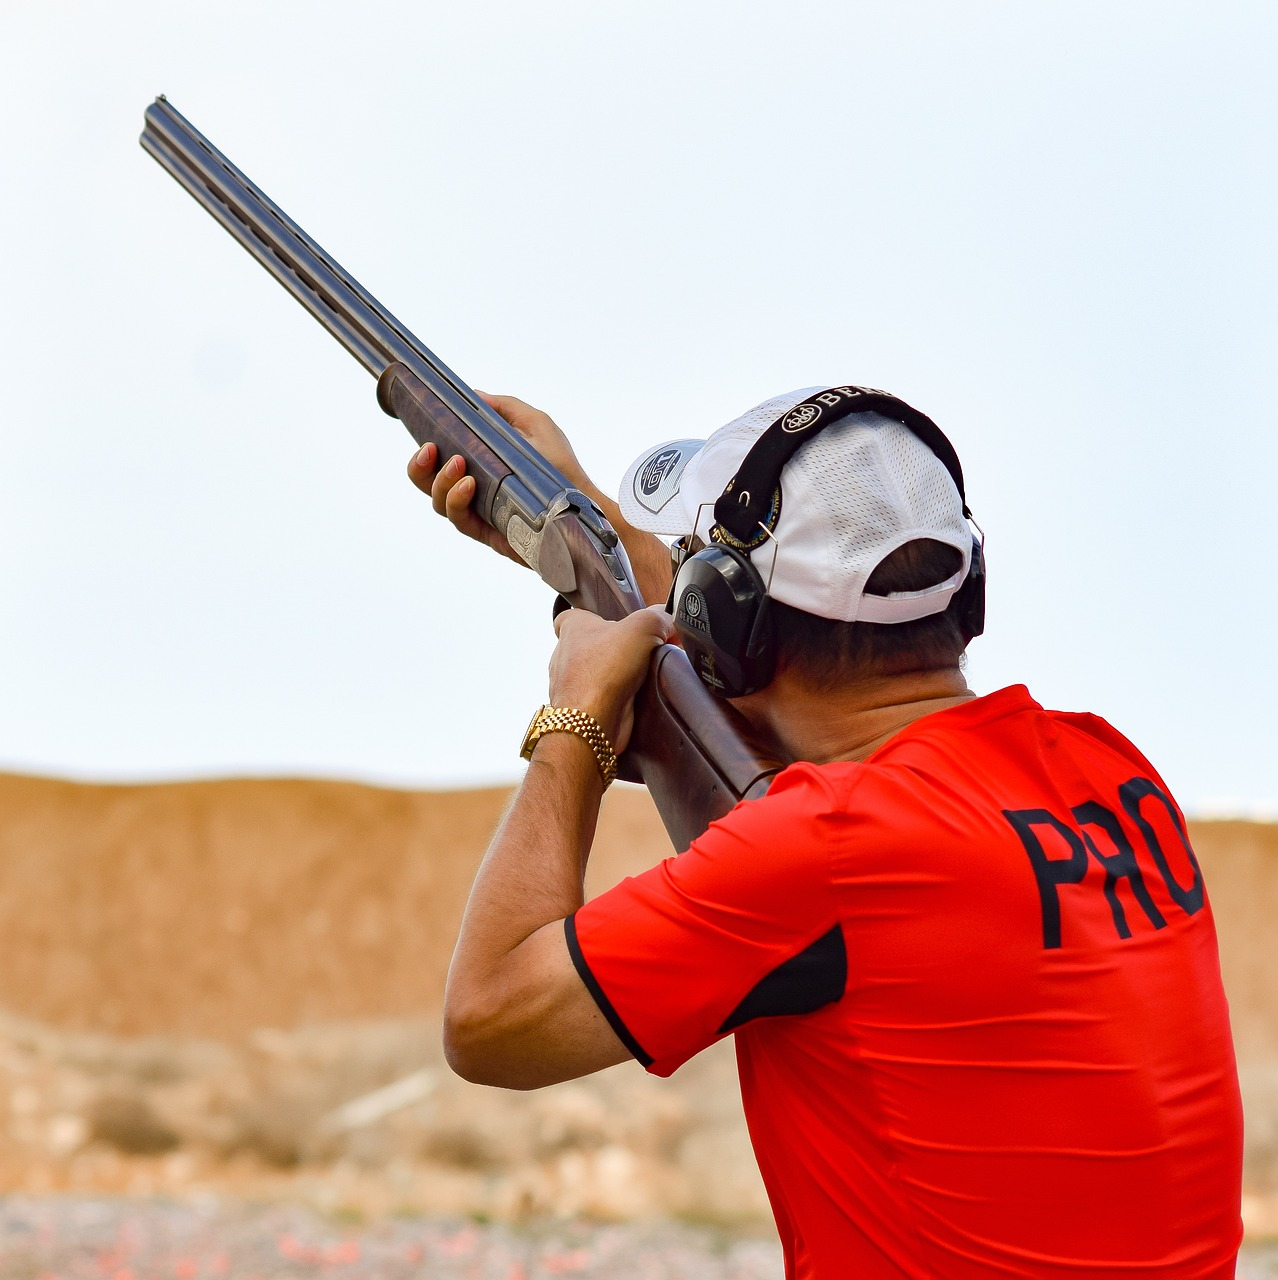gun: (133, 87, 796, 865)
